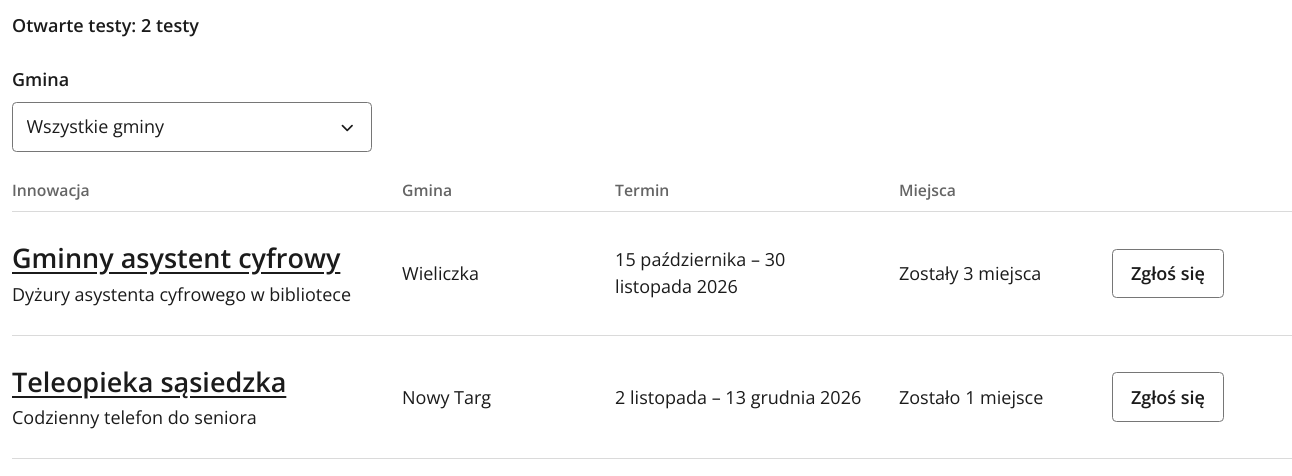
Test: OpenTestsList › lists tests with dates and plurals, and filters by gmina
Expected: the message reads "Otwarte testy: 2 testy", x1=12 y1=13 x2=199 y2=37
Expected: the number of list items is 2, x1=12 y1=212 x2=1291 y2=336; x1=12 y1=336 x2=1291 y2=459
Select "Wieliczka" in the dropdown labelled "Gmina" at [192, 127], box x1=12 y1=102 x2=372 y2=152
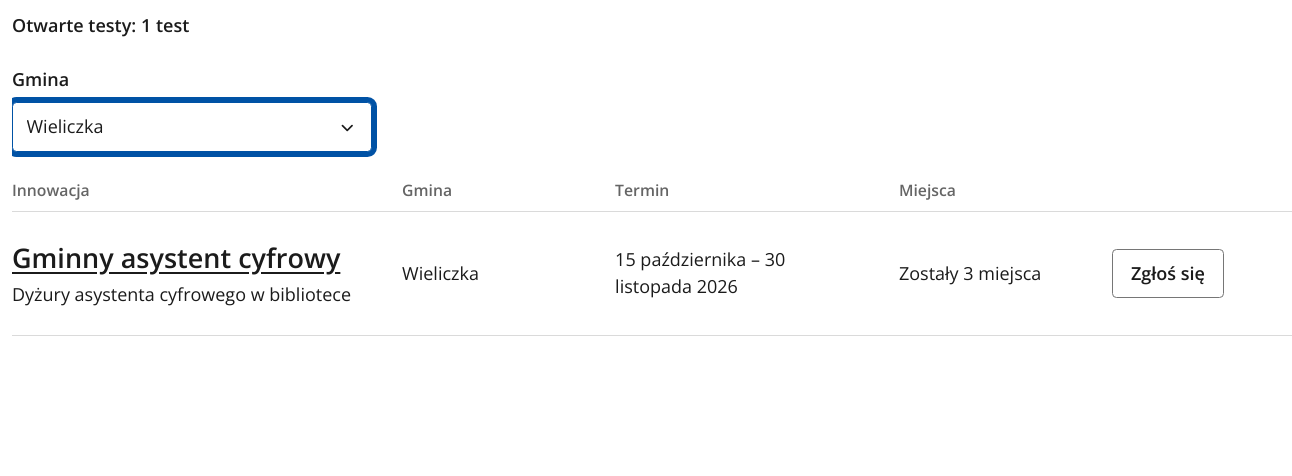
Expected: the list item shows "Wieliczka", x1=402 y1=261 x2=479 y2=285
Expected: the message reads "Otwarte testy: 1 test", x1=12 y1=13 x2=189 y2=37
Expected: the number of list items is 1, x1=12 y1=212 x2=1291 y2=336
